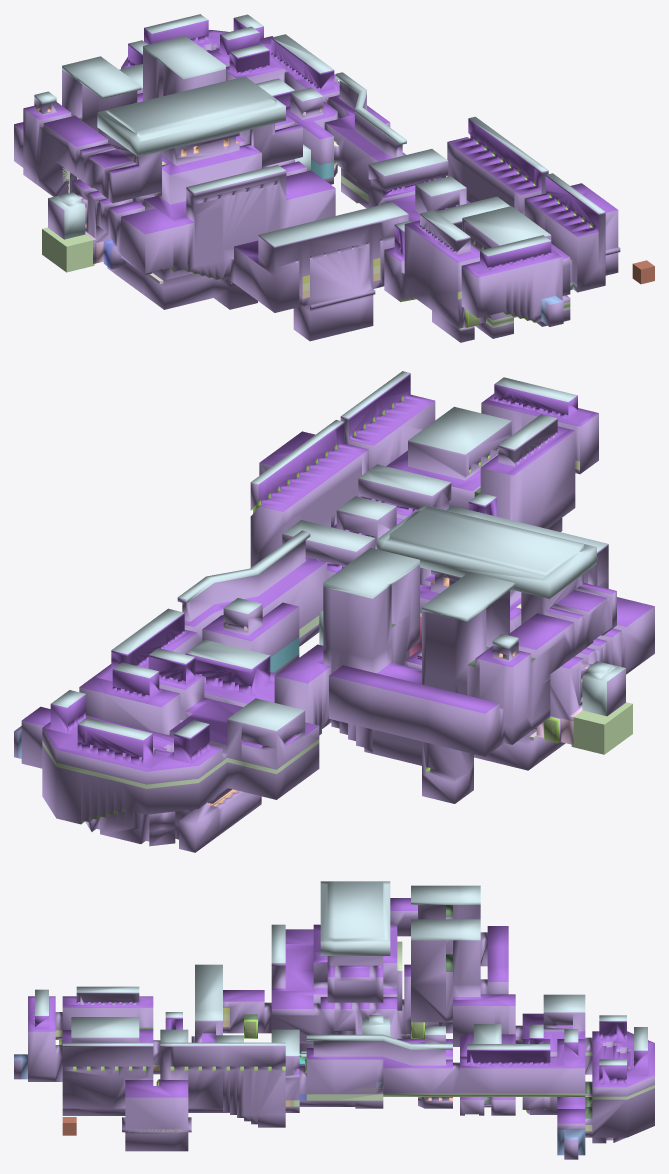
The model's file is Quake_DM2.fbx.
3 views of the same model, one above another, from view 1: azimuth 30°, elevation 25°; view 2: azimuth 150°, elevation 25°; view 3: azimuth 270°, elevation 25° (orthographic). The views are drawn at different scales.
Parts seen in each view (by area): view 1: bsp_model_0, bsp_model_7; view 2: bsp_model_0, bsp_model_7; view 3: bsp_model_0.
Part boxes in pixels (box(x1,y1,x2,y2)): bsp_model_0: box(14, 14, 620, 342); bsp_model_7: box(42, 227, 94, 272); bsp_model_0: box(14, 371, 654, 852); bsp_model_7: box(571, 702, 632, 754); bsp_model_0: box(14, 881, 654, 1159).
Bounding box in the file's own units: 5925 × 2425 × 9200.
